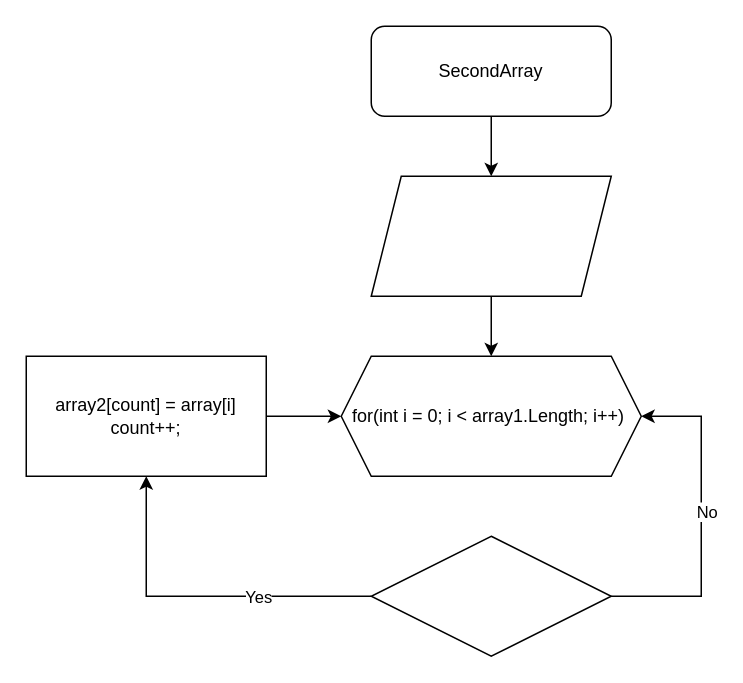
The diagram is 743 pixels wide and 683 high, and some of its shapes have lost their labels. Here are the shapes that lost their labels. From the top down, the centre of each, then its label:
At [490,235]: "string[] arrary1 string[] arrary2 int count = 0".
At [490,595]: "if(array1[i].Length <= 3)".
